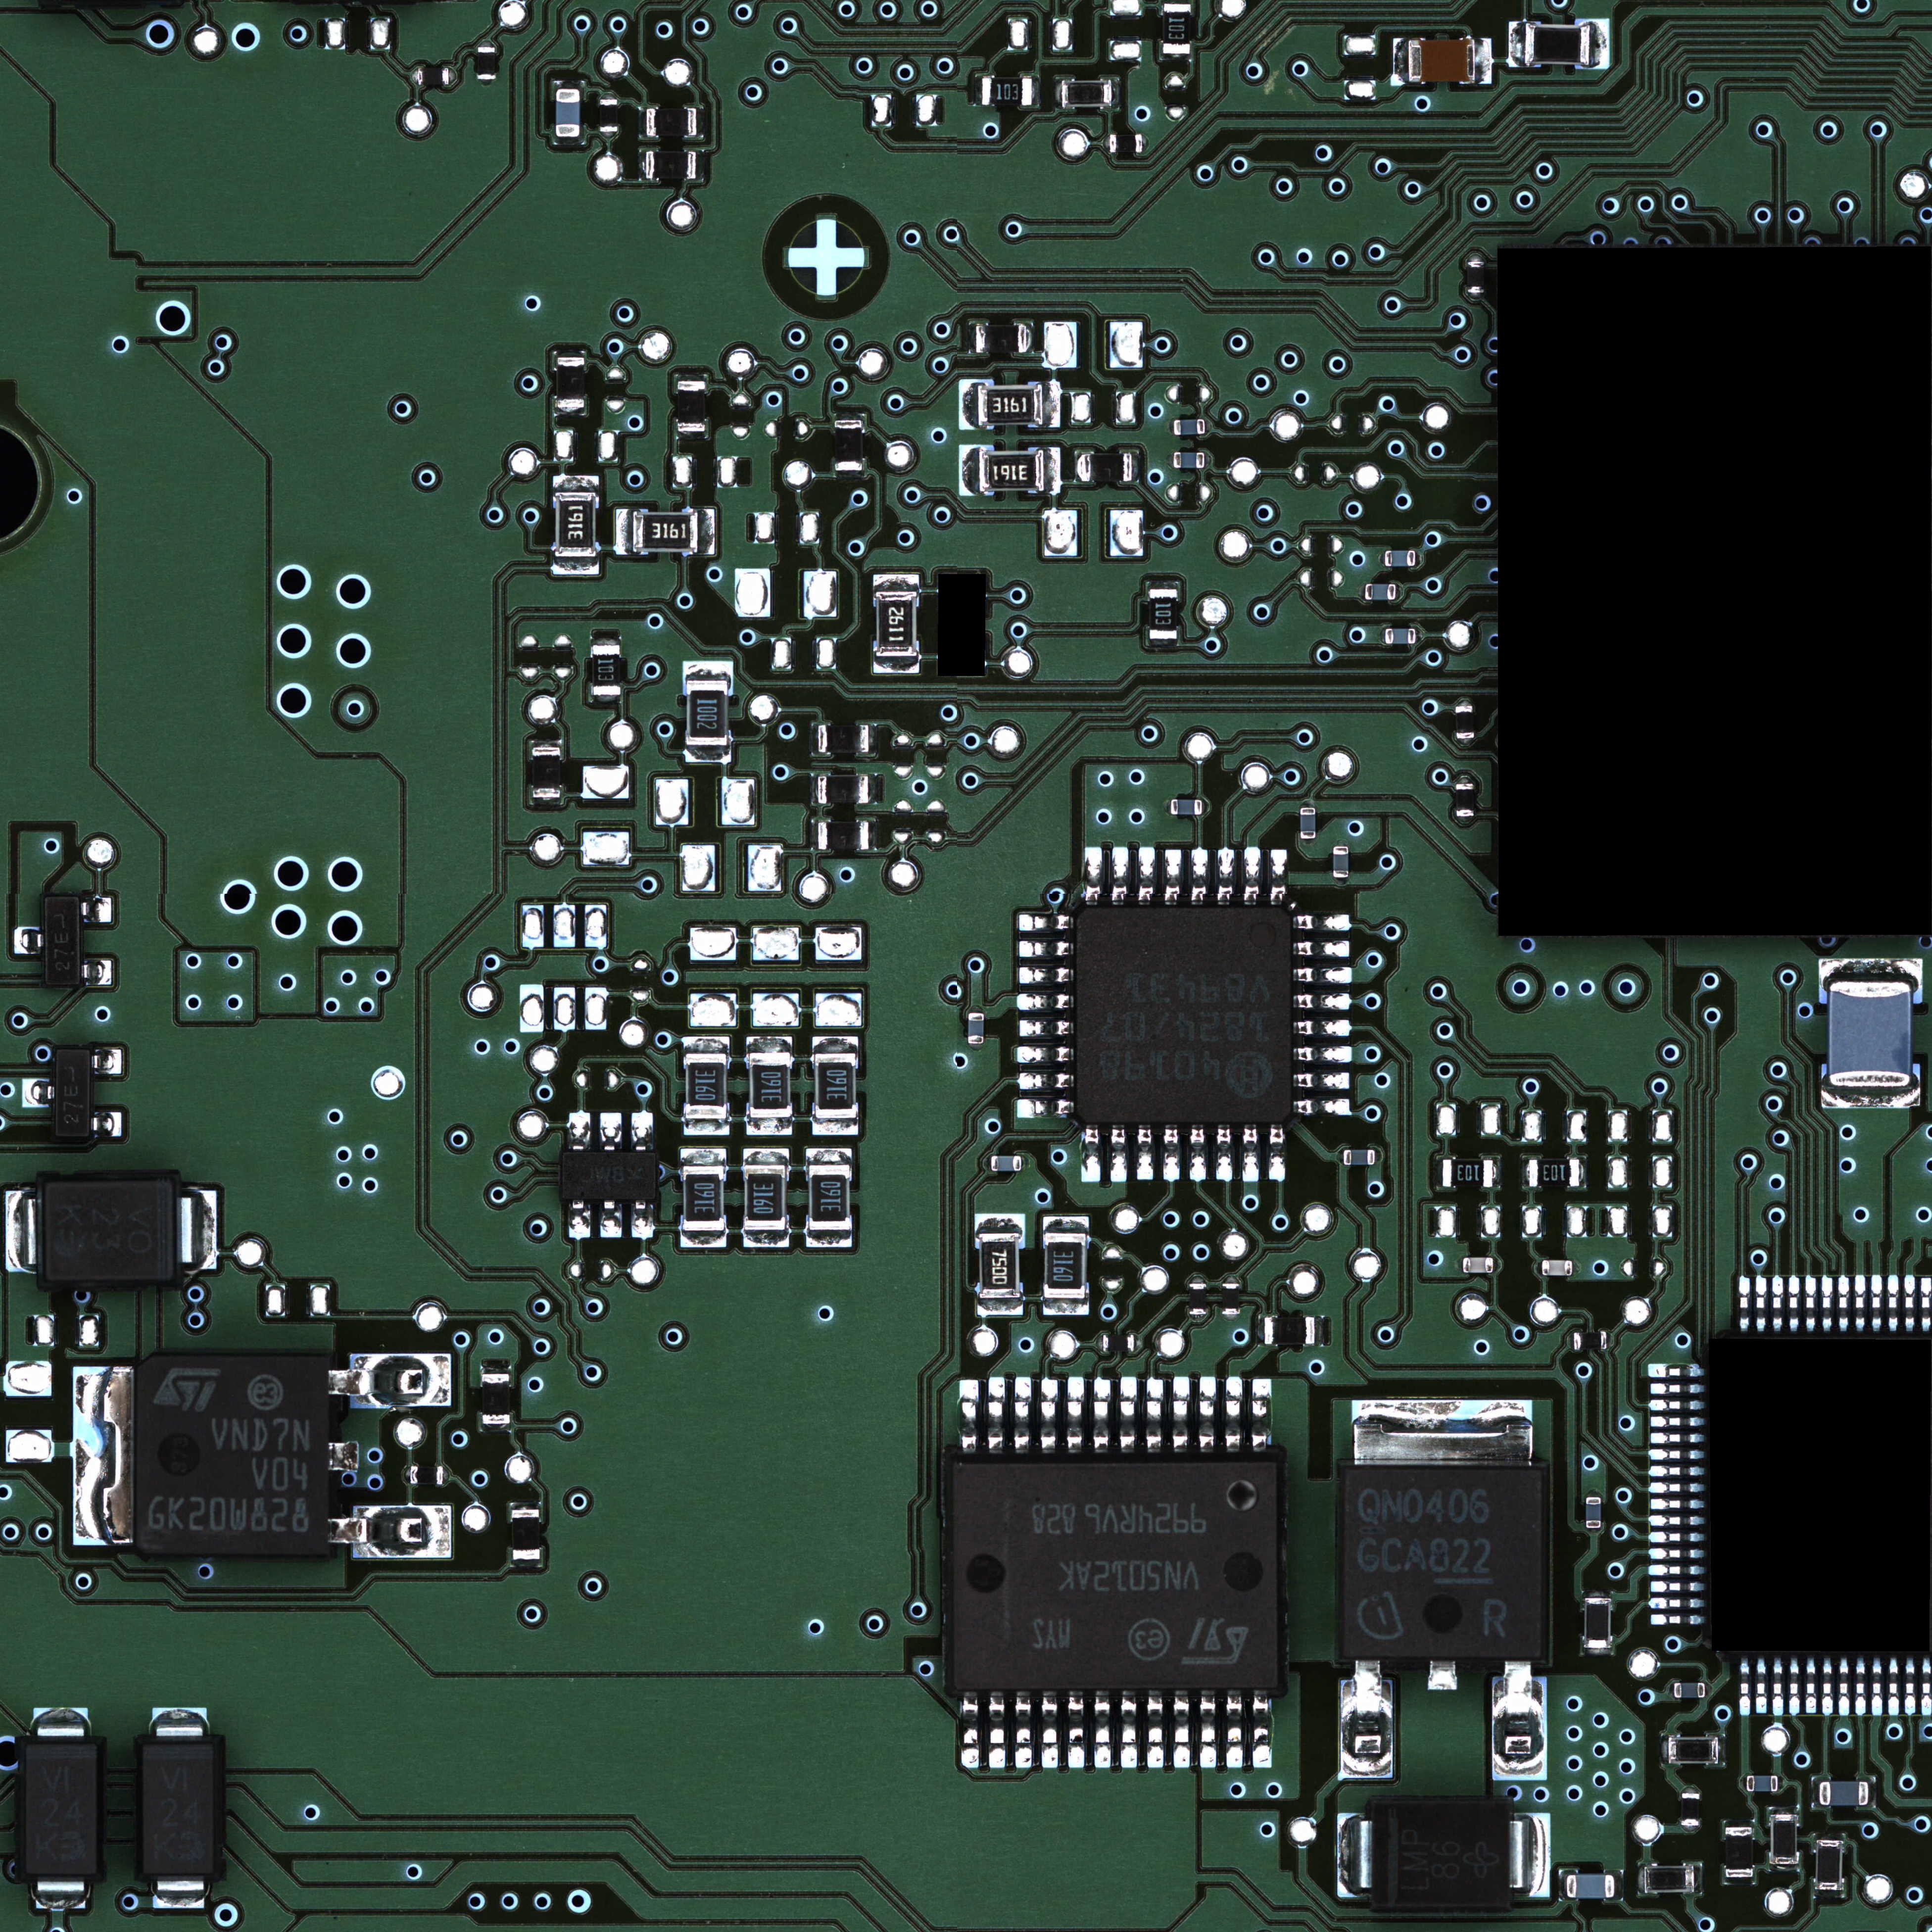Package: (950, 1463, 1279, 1690), (1074, 908, 1293, 1123), (136, 1353, 331, 1557), (1345, 1468, 1543, 1660), (1373, 1799, 1511, 1909), (44, 1182, 173, 1279), (25, 1743, 97, 1874), (142, 1744, 214, 1875), (1828, 980, 1913, 1088), (561, 1152, 658, 1201), (55, 1049, 90, 1138), (44, 897, 80, 985), (1408, 39, 1476, 81), (683, 1166, 725, 1231), (685, 1054, 727, 1120), (978, 1233, 1021, 1299), (978, 449, 1044, 492), (876, 591, 916, 658), (1523, 25, 1591, 65), (977, 386, 1044, 426), (750, 1053, 791, 1118), (632, 511, 697, 552), (686, 681, 727, 745), (810, 1166, 851, 1230), (816, 1054, 856, 1118), (745, 1166, 786, 1230), (556, 494, 596, 557), (1046, 1233, 1085, 1299), (817, 821, 869, 851), (1527, 1159, 1580, 1187), (678, 380, 706, 432), (646, 108, 697, 136), (817, 725, 869, 754), (533, 747, 561, 798), (511, 1509, 540, 1560), (817, 775, 869, 803), (1725, 1826, 1753, 1877), (977, 326, 1028, 354), (1081, 453, 1132, 481), (593, 646, 621, 695), (1265, 1316, 1315, 1345), (835, 419, 862, 471), (557, 357, 584, 409), (483, 1373, 510, 1424), (646, 152, 697, 179), (982, 78, 1033, 104), (1442, 1161, 1493, 1187), (1644, 1867, 1695, 1893), (1817, 1840, 1844, 1890), (1150, 589, 1177, 639), (1668, 1737, 1718, 1764), (1164, 4, 1191, 53), (1771, 1815, 1798, 1863), (1566, 1874, 1615, 1898), (1585, 1598, 1610, 1647), (1819, 1782, 1868, 1806), (1062, 81, 1111, 106), (556, 88, 580, 136), (1454, 784, 1476, 817), (478, 46, 497, 80), (1681, 1792, 1700, 1826), (1573, 1332, 1608, 1350), (600, 99, 617, 133), (1109, 134, 1143, 152), (1456, 706, 1474, 740), (416, 67, 449, 85), (410, 1467, 442, 1484), (1102, 1334, 1134, 1352), (1746, 1775, 1778, 1792), (1223, 1283, 1240, 1315), (1300, 807, 1316, 839), (1364, 584, 1396, 600), (1191, 1283, 1207, 1315), (1343, 1148, 1375, 1164), (1674, 1683, 1706, 1698), (968, 1014, 984, 1044), (1175, 419, 1205, 435), (1385, 628, 1415, 644), (1385, 550, 1415, 566), (1543, 1260, 1573, 1276), (991, 1155, 1021, 1171), (1468, 262, 1484, 292), (1587, 1497, 1601, 1529), (1173, 453, 1205, 467), (1334, 847, 1348, 878), (1463, 1258, 1493, 1272), (1171, 800, 1201, 814)
Solder: (1352, 1398, 1534, 1467), (73, 1366, 136, 1545), (1491, 1661, 1548, 1782), (331, 1353, 453, 1408), (331, 1504, 453, 1559), (1339, 1661, 1394, 1780), (173, 1191, 218, 1270), (1511, 1813, 1552, 1898), (5, 1191, 44, 1274), (1338, 1812, 1371, 1898), (1819, 959, 1923, 980), (1821, 1088, 1920, 1109), (152, 1707, 207, 1744), (32, 1707, 88, 1743), (37, 1875, 87, 1911), (152, 1875, 205, 1907), (1251, 1378, 1272, 1453), (1067, 1695, 1086, 1769), (961, 1695, 980, 1769), (1253, 1695, 1272, 1767), (959, 1380, 978, 1451), (1224, 1376, 1242, 1453), (1042, 1695, 1060, 1769), (1146, 1695, 1164, 1769), (1093, 1695, 1111, 1769), (1173, 1695, 1191, 1769), (1226, 1695, 1244, 1769), (1014, 1376, 1031, 1451), (1120, 1695, 1138, 1769), (1067, 1376, 1085, 1451), (1146, 1376, 1164, 1451), (1040, 1376, 1058, 1451), (1093, 1376, 1111, 1451), (1200, 1695, 1217, 1767), (989, 1693, 1005, 1769), (1016, 1695, 1031, 1769), (1173, 1376, 1189, 1451), (1120, 1376, 1136, 1451), (989, 1376, 1005, 1451), (1200, 1376, 1215, 1451), (1017, 1097, 1072, 1118), (1017, 1070, 1072, 1092), (1081, 1127, 1100, 1184), (1295, 913, 1352, 932), (1017, 993, 1072, 1012), (1019, 966, 1072, 985), (1019, 1019, 1072, 1039), (1019, 939, 1072, 959), (21, 1077, 55, 1108), (1109, 1127, 1127, 1184), (1295, 1099, 1352, 1116), (1244, 847, 1261, 904), (1242, 1127, 1260, 1184), (1111, 846, 1129, 902), (1295, 1019, 1352, 1037), (1295, 1046, 1352, 1063), (1295, 966, 1352, 984), (1295, 993, 1352, 1010), (975, 1214, 1026, 1233), (1591, 18, 1610, 69), (959, 444, 978, 495), (1019, 913, 1070, 932), (1162, 1127, 1180, 1182), (1136, 1127, 1154, 1182), (1191, 847, 1208, 902), (1189, 1127, 1207, 1182), (1138, 847, 1155, 902), (1217, 847, 1235, 902), (1295, 1072, 1350, 1090), (1085, 847, 1102, 902), (1295, 939, 1350, 957), (1426, 1660, 1458, 1690), (1164, 849, 1182, 902), (568, 1111, 591, 1152), (959, 379, 977, 430), (1269, 1125, 1284, 1182), (331, 1440, 359, 1472), (743, 1230, 789, 1249), (683, 662, 732, 679), (1215, 1127, 1231, 1182), (1270, 849, 1286, 904), (568, 1201, 591, 1238), (600, 1201, 623, 1238), (600, 1113, 623, 1150), (14, 925, 44, 954), (679, 1231, 727, 1249), (552, 557, 600, 575), (1042, 1215, 1090, 1233), (805, 1230, 853, 1247), (80, 897, 111, 924), (632, 1113, 653, 1152), (747, 1118, 793, 1136), (683, 1037, 729, 1054), (1044, 448, 1062, 494), (681, 1148, 727, 1166), (1044, 382, 1062, 428), (81, 959, 111, 985), (632, 1201, 653, 1238), (554, 474, 598, 492), (1042, 1299, 1090, 1315), (1476, 37, 1491, 85), (872, 658, 920, 674), (699, 508, 715, 556), (872, 575, 920, 591), (92, 1049, 122, 1074), (92, 1111, 122, 1136), (977, 1300, 1023, 1316), (743, 1148, 789, 1164), (616, 508, 632, 554), (685, 747, 731, 763), (812, 1037, 858, 1053), (747, 1037, 793, 1053), (812, 1118, 858, 1134), (685, 1120, 729, 1136), (807, 1148, 851, 1164), (1392, 37, 1407, 87), (1651, 1514, 1706, 1527), (1649, 1382, 1704, 1394), (1649, 1364, 1704, 1376), (1904, 1276, 1916, 1330), (1651, 1497, 1704, 1509), (1509, 21, 1523, 67), (1739, 1656, 1750, 1714), (1757, 1656, 1767, 1714), (1773, 1656, 1783, 1714), (1789, 1656, 1799, 1714), (1805, 1656, 1815, 1714), (1822, 1656, 1833, 1714), (1838, 1656, 1849, 1714), (1856, 1656, 1867, 1714), (1888, 1656, 1898, 1714), (1872, 1656, 1882, 1714), (1904, 1656, 1914, 1714), (1921, 1656, 1932, 1714), (1739, 1276, 1750, 1332), (1789, 1276, 1799, 1332), (1651, 1614, 1706, 1624), (1651, 1598, 1706, 1608), (1651, 1564, 1706, 1575), (1651, 1582, 1706, 1592), (1651, 1548, 1706, 1559), (1649, 1481, 1704, 1491), (1649, 1465, 1704, 1476), (1649, 1449, 1704, 1460), (1649, 1431, 1704, 1442), (1651, 1415, 1706, 1426), (1649, 1399, 1704, 1410), (1755, 1276, 1766, 1330), (1773, 1276, 1783, 1330), (1854, 1276, 1865, 1330), (1806, 1276, 1817, 1330), (1822, 1276, 1833, 1330), (1838, 1276, 1849, 1330), (1888, 1276, 1898, 1330), (1921, 1276, 1932, 1330), (1872, 1276, 1882, 1330), (1651, 1532, 1704, 1543), (552, 136, 586, 147), (869, 773, 879, 805), (1813, 1890, 1845, 1900), (1164, 53, 1191, 65), (1315, 1316, 1325, 1346), (1146, 580, 1180, 589), (674, 372, 708, 380), (1723, 1877, 1757, 1886), (1615, 1868, 1624, 1902), (479, 1424, 511, 1433), (1695, 1863, 1704, 1895), (676, 432, 708, 441), (554, 409, 586, 418), (589, 695, 621, 704), (973, 74, 982, 106), (554, 349, 586, 357), (1868, 1776, 1877, 1808), (1810, 1776, 1819, 1808), (869, 819, 878, 851), (869, 724, 878, 755), (531, 738, 563, 747), (1582, 1647, 1614, 1656), (637, 106, 646, 138), (1026, 322, 1035, 354), (481, 1364, 511, 1373), (591, 635, 621, 644), (1582, 1589, 1612, 1598), (1718, 1736, 1727, 1766), (531, 798, 561, 807), (697, 150, 706, 180), (1769, 1806, 1798, 1815), (1493, 1159, 1502, 1187), (510, 1560, 543, 1568), (1559, 1868, 1566, 1902), (1813, 1833, 1847, 1840), (510, 1502, 541, 1509), (554, 81, 586, 88), (1146, 640, 1178, 648), (1723, 1819, 1755, 1826), (810, 819, 817, 851), (1132, 451, 1139, 483), (810, 773, 817, 805), (968, 322, 975, 354), (810, 724, 817, 755), (1074, 451, 1081, 483), (1580, 1157, 1587, 1189), (1033, 76, 1040, 106), (1637, 1865, 1644, 1895), (1769, 1865, 1799, 1872), (1661, 1734, 1668, 1764), (1435, 1157, 1442, 1187), (637, 150, 644, 180), (697, 108, 704, 138), (1111, 78, 1118, 108), (1054, 80, 1062, 108), (835, 471, 863, 478), (835, 412, 863, 419), (1454, 775, 1474, 784), (1189, 1315, 1208, 1323), (1454, 816, 1474, 824), (449, 67, 458, 87), (1258, 1315, 1263, 1346), (1522, 1157, 1527, 1189), (1468, 292, 1486, 301), (1021, 1155, 1030, 1171), (1681, 1826, 1700, 1833), (1681, 1785, 1700, 1792), (1189, 1276, 1207, 1283), (478, 39, 495, 46), (1456, 740, 1474, 747), (600, 92, 617, 99), (478, 80, 495, 87), (1456, 699, 1474, 706), (1778, 1775, 1785, 1792), (1223, 1276, 1238, 1283), (1468, 255, 1484, 262), (442, 1467, 449, 1483), (1205, 419, 1212, 435), (1375, 1148, 1382, 1164), (1336, 1148, 1343, 1164), (1536, 1260, 1543, 1276), (1573, 1260, 1580, 1276), (984, 1155, 991, 1171), (1415, 550, 1422, 566), (1378, 550, 1385, 566), (1396, 584, 1403, 600), (1357, 584, 1364, 600), (1415, 628, 1422, 644), (1378, 628, 1385, 644), (1334, 878, 1348, 885), (1334, 840, 1348, 847), (1493, 1258, 1500, 1272), (1223, 1315, 1240, 1320), (968, 1044, 985, 1049), (410, 67, 416, 85), (600, 133, 617, 138), (1136, 1334, 1141, 1352), (1097, 1334, 1102, 1352), (1143, 134, 1148, 152), (1104, 134, 1109, 152), (1741, 1775, 1746, 1792), (1608, 1332, 1614, 1350), (1568, 1332, 1573, 1350), (1300, 839, 1316, 844), (405, 1467, 410, 1483), (968, 1007, 984, 1012), (1205, 453, 1210, 469), (1300, 801, 1316, 807), (1203, 800, 1208, 816), (1168, 453, 1173, 467), (1458, 1258, 1463, 1272), (1164, 800, 1169, 814), (1706, 1683, 1711, 1697), (1587, 1491, 1601, 1497), (1670, 1683, 1674, 1698), (1169, 419, 1173, 433), (1587, 1529, 1601, 1532)
